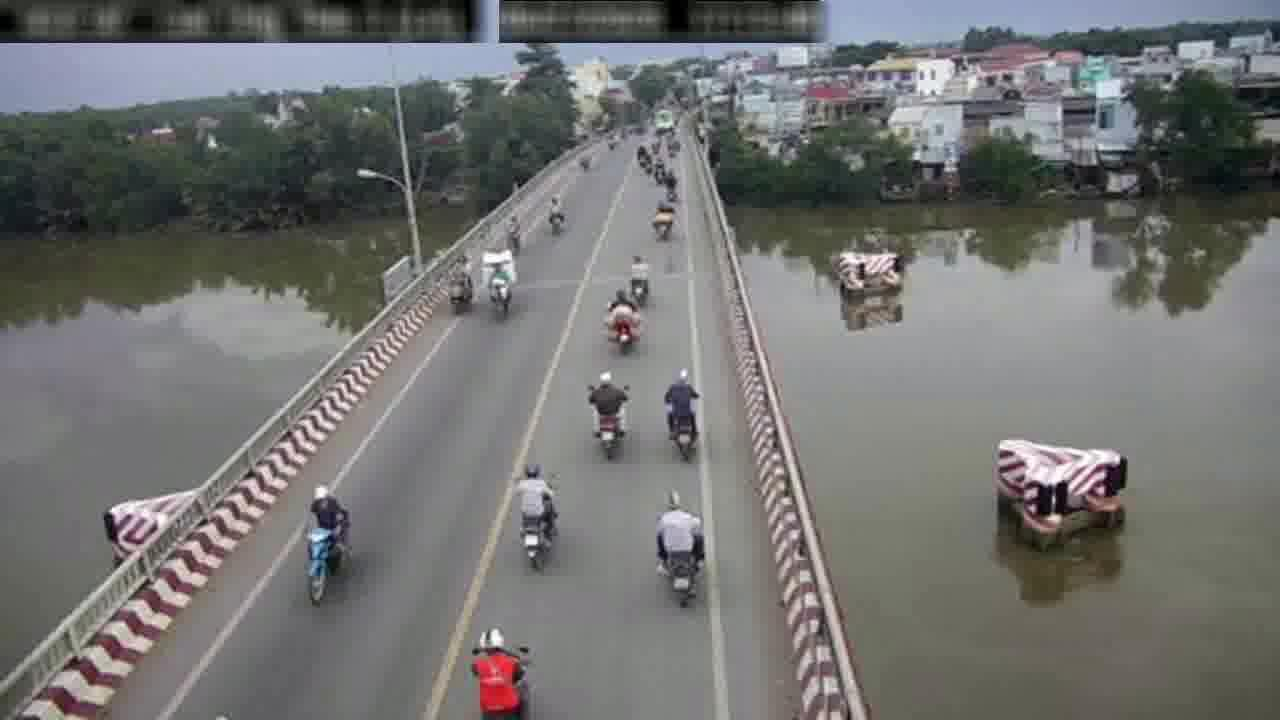motorbike: (653, 484, 706, 611), (305, 482, 354, 608), (513, 455, 557, 577), (586, 362, 627, 460), (663, 362, 697, 459), (481, 250, 514, 319), (608, 282, 639, 354), (442, 250, 473, 313), (628, 250, 651, 302), (652, 196, 674, 244)
